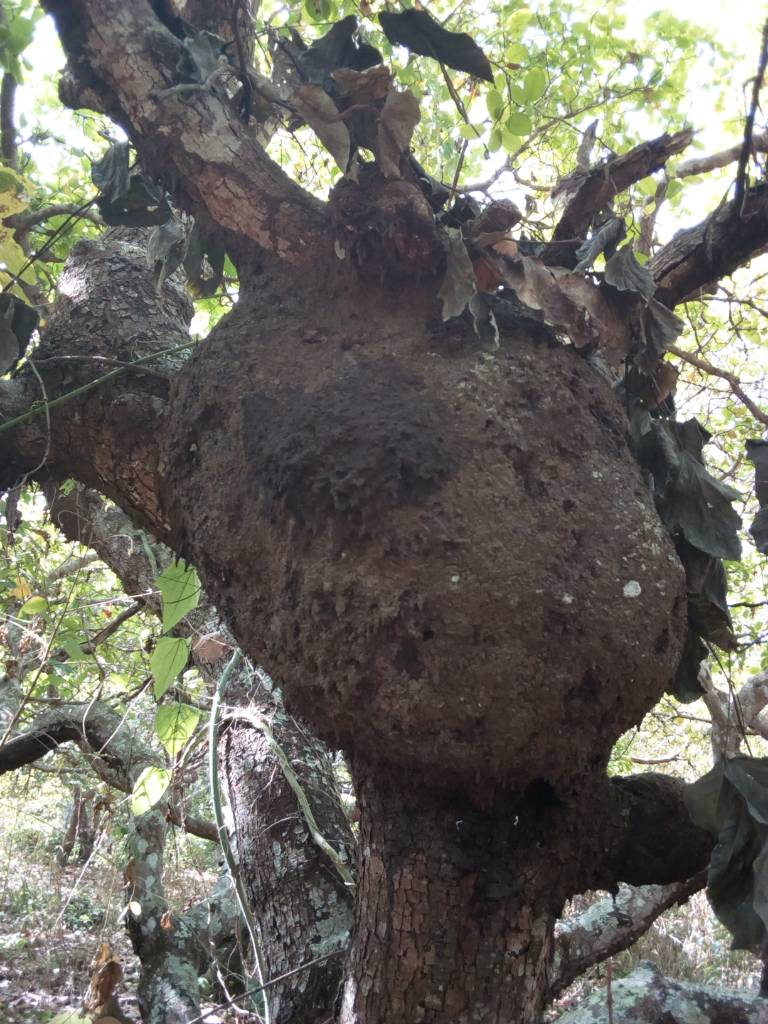Termites: (177, 316, 690, 861)
